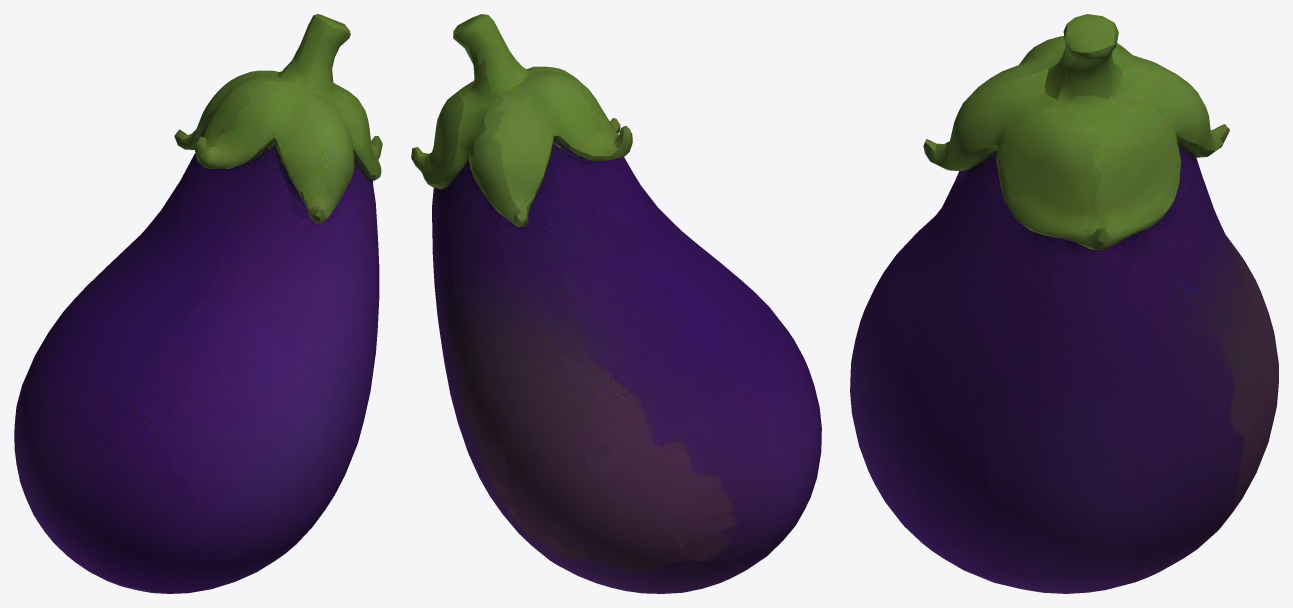
The model's file is eggplant.glb.
3 renders of one model, left to right at view 1: azimuth 30°, elevation 25°; view 2: azimuth 150°, elevation 25°; view 3: azimuth 270°, elevation 25°, orthographic. The views are drawn at different scales.
Visible parts, largest first — view 1: eggplant; view 2: eggplant; view 3: eggplant.
Part boxes in pixels (x1=…): eggplant: x1=14, y1=14, x2=382, y2=593; eggplant: x1=411, y1=14, x2=821, y2=593; eggplant: x1=850, y1=14, x2=1278, y2=593.
Bounding box in the file's own units: 0.7349 × 1 × 0.5924.
Materials: 1 (1 with a texture image).
